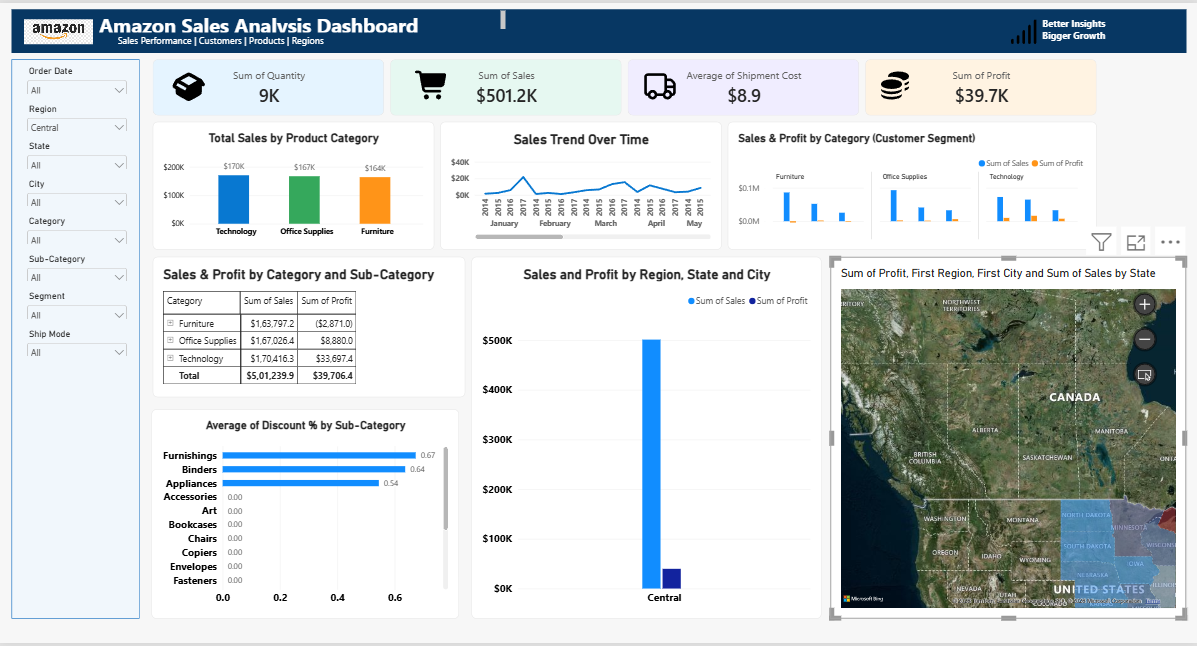

The page's visual inventory and layout, read from the dashboard file:
{"tool":"powerbi","page":{"name":"Page 2","canvas":[1920,1024],"ordinal":1},"visuals":[{"type":"cardVisual","fields":{"Data":["Sum(Orders.Quantity)"]},"box":[245,90,370,90],"z":0},{"type":"cardVisual","fields":{"Data":["Sum(Orders.Sales)"]},"box":[625,90,370,90],"z":1000},{"type":"cardVisual","fields":{"Data":["Avg(Orders.Shipment Cost)"]},"box":[1005,90,370,90],"z":2000},{"type":"cardVisual","fields":{"Data":["Sum(Orders.Profit)"]},"box":[1385,90,370,90],"z":3000},{"type":"columnChart","title":"Total Sales by Product Category","fields":{"Category":["Orders.Category"],"Y":["Sum(Orders.Sales)"]},"box":[245,190,450,205],"z":4000},{"type":"lineChart","title":"Sales Trend Over Time","fields":{"Category":["Orders.Order Date.Variation.Date Hierarchy.Month","Orders.Order Date.Variation.Date Hierarchy.Year"],"Y":["Sum(Orders.Sales)"]},"box":[705,190,450,205],"z":5000},{"type":"clusteredColumnChart","title":"Sales & Profit by Category (Customer Segment)","fields":{"Category":["Orders.Segment"],"Y":["Sum(Orders.Sales)","Sum(Orders.Profit)"],"Rows":["Orders.Category"]},"box":[1165,190,590,205],"z":6000},{"type":"pivotTable","title":"Sales & Profit by Category and Sub-Category","fields":{"Rows":["Orders.Category","Orders.Sub-Category"],"Values":["Sum(Orders.Sales)","Sum(Orders.Profit)"]},"box":[245,405,500,225],"z":7000},{"type":"clusteredBarChart","fields":{"Category":["Orders.Sub-Category"],"Y":["Avg(Orders.Discount %)"]},"box":[244.2,650.6,491.9,334.9],"z":8000},{"type":"clusteredColumnChart","title":"Sales and Profit by Region, State and City","fields":{"Category":["Orders.Region"],"Y":["Sum(Orders.Sales)","Sum(Orders.Profit)"]},"box":[757,406.4,559.9,579.1],"z":9000},{"type":"filledMap","fields":{"Category":["Orders.State"]},"box":[1329.1,406.4,570.4,579.1],"z":10000},{"type":"shape","box":[20,10,1880,70],"z":11000},{"type":"textbox","box":[160,12,650,35],"z":12000},{"type":"textbox","box":[190,50,650,20],"z":13000},{"type":"shape","box":[20,90,205,895],"z":14000},{"type":"slicer","fields":{"Values":["Orders.Order Date"]},"box":[40,100,170,45],"z":15000},{"type":"slicer","fields":{"Values":["Orders.Region"]},"box":[40,160,170,45],"z":16000},{"type":"slicer","fields":{"Values":["Orders.State"]},"box":[40,220,170,45],"z":17000},{"type":"slicer","fields":{"Values":["Orders.City"]},"box":[40,280,170,45],"z":18000},{"type":"slicer","fields":{"Values":["Orders.Category"]},"box":[40,340,170,45],"z":19000},{"type":"slicer","fields":{"Values":["Orders.Sub-Category"]},"box":[40,400,170,45],"z":20000},{"type":"slicer","fields":{"Values":["Orders.Segment"]},"box":[40,460,170,45],"z":21000},{"type":"slicer","fields":{"Values":["Orders.Ship Mode"]},"box":[40,520,170,45],"z":22000},{"type":"image","box":[40.1,26.2,110,40],"z":23000},{"type":"textbox","box":[1630,22.7,179.7,57.6],"z":24000},{"type":"image","box":[652.3,104.7,83.7,55.8],"z":25000},{"type":"image","box":[261.6,106.4,83.7,55.8],"z":26000},{"type":"image","box":[1016.9,104.7,83.7,55.8],"z":27000},{"type":"image","box":[1391.9,104.7,83.7,55.8],"z":28000},{"type":"image","box":[1598,18.3,83.7,55.8],"z":29000}]}

Visuals, with their boxes in screenshot pixels (x1, y1, x2, y2), scaled from the page's 1920x1024 canvas onto the 1197x646 screenshot:
cardVisual - Sum(Orders.Quantity): (153,57,383,114)
cardVisual - Sum(Orders.Sales): (390,57,620,114)
cardVisual - Avg(Orders.Shipment Cost): (627,57,857,114)
cardVisual - Sum(Orders.Profit): (863,57,1094,114)
"Total Sales by Product Category" columnChart: (153,120,433,249)
"Sales Trend Over Time" lineChart: (440,120,720,249)
"Sales & Profit by Category (Customer Segment)" clusteredColumnChart: (726,120,1094,249)
"Sales & Profit by Category and Sub-Category" pivotTable: (153,255,464,397)
clusteredBarChart - Orders.Sub-Category x Avg(Orders.Discount %): (152,410,459,622)
"Sales and Profit by Region, State and City" clusteredColumnChart: (472,256,821,622)
filledMap - Orders.State: (829,256,1184,622)
shape: (12,6,1185,50)
textbox: (100,8,505,30)
textbox: (118,32,524,44)
shape: (12,57,140,621)
slicer - Orders.Order Date: (25,63,131,91)
slicer - Orders.Region: (25,101,131,129)
slicer - Orders.State: (25,139,131,167)
slicer - Orders.City: (25,177,131,205)
slicer - Orders.Category: (25,214,131,243)
slicer - Orders.Sub-Category: (25,252,131,281)
slicer - Orders.Segment: (25,290,131,319)
slicer - Orders.Ship Mode: (25,328,131,356)
image: (25,17,94,42)
textbox: (1016,14,1128,51)
image: (407,66,459,101)
image: (163,67,215,102)
image: (634,66,686,101)
image: (868,66,920,101)
image: (996,12,1048,47)
